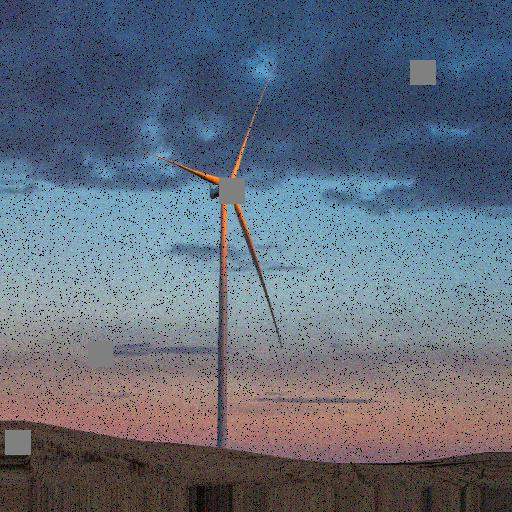wind turbine: (143, 80, 284, 447)
